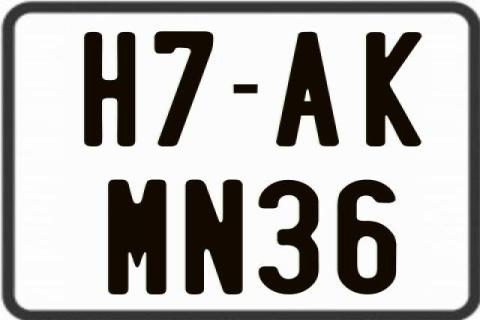0: (152, 32, 216, 152), (259, 178, 323, 298), (335, 178, 398, 296)
A: (275, 32, 341, 149)
H: (83, 31, 136, 145)
K: (363, 31, 420, 146)
M: (108, 177, 170, 296)
N: (184, 177, 248, 293)
